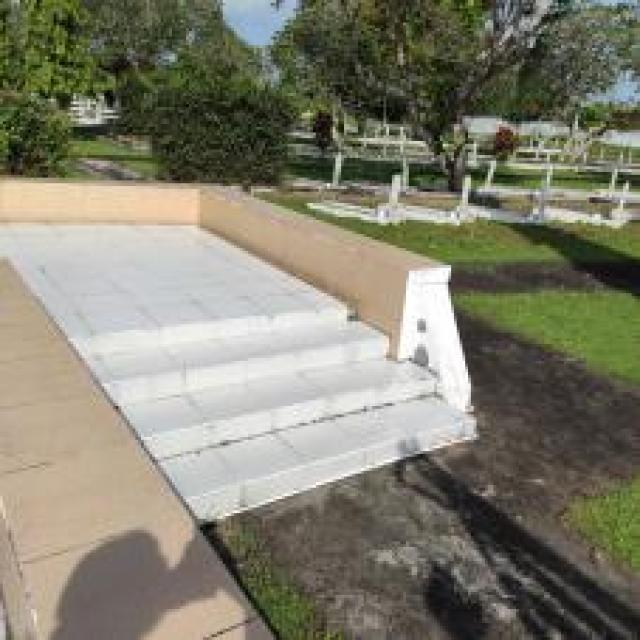upstair: (66, 320, 497, 517)
